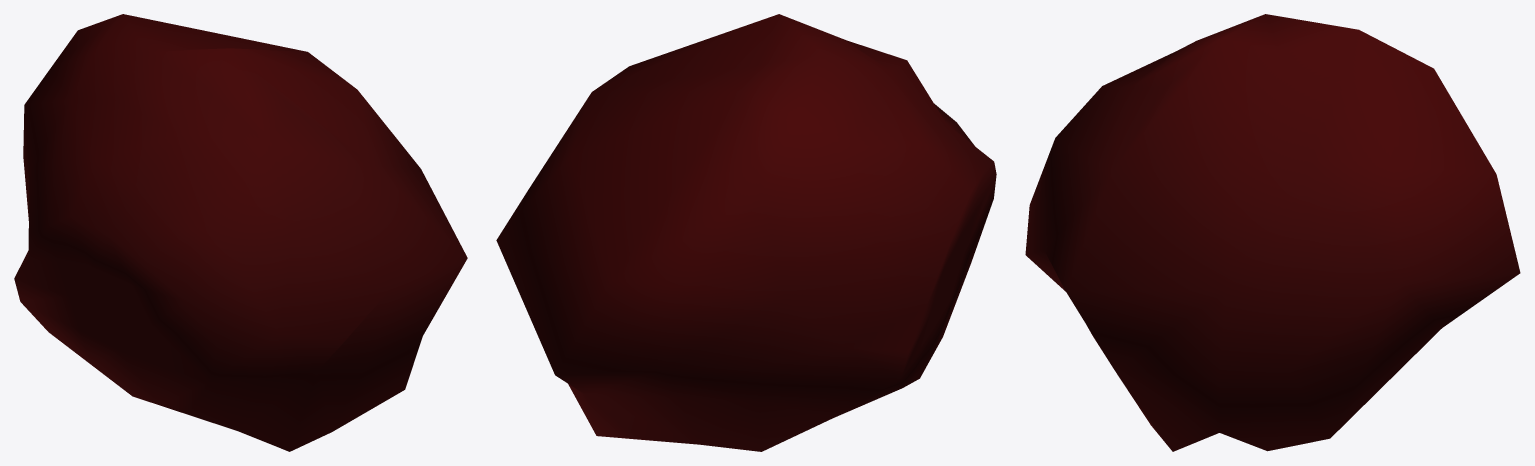
File: geology-pebbles-dirtchunk_v1.fbx
3 views of the same model, side by side, from view 1: azimuth 30°, elevation 25°; view 2: azimuth 150°, elevation 25°; view 3: azimuth 270°, elevation 25° (orthographic). The views are drawn at different scales.
Visible parts, largest first — view 1: DirtChunk_v1; view 2: DirtChunk_v1; view 3: DirtChunk_v1.
Part boxes in pixels (left/top/right/bottom): DirtChunk_v1: left=14, top=14, right=467, bottom=451; DirtChunk_v1: left=496, top=14, right=996, bottom=451; DirtChunk_v1: left=1025, top=14, right=1520, bottom=451.
Bounding box in the file's own units: 5.47 × 5.41 × 6.69.
